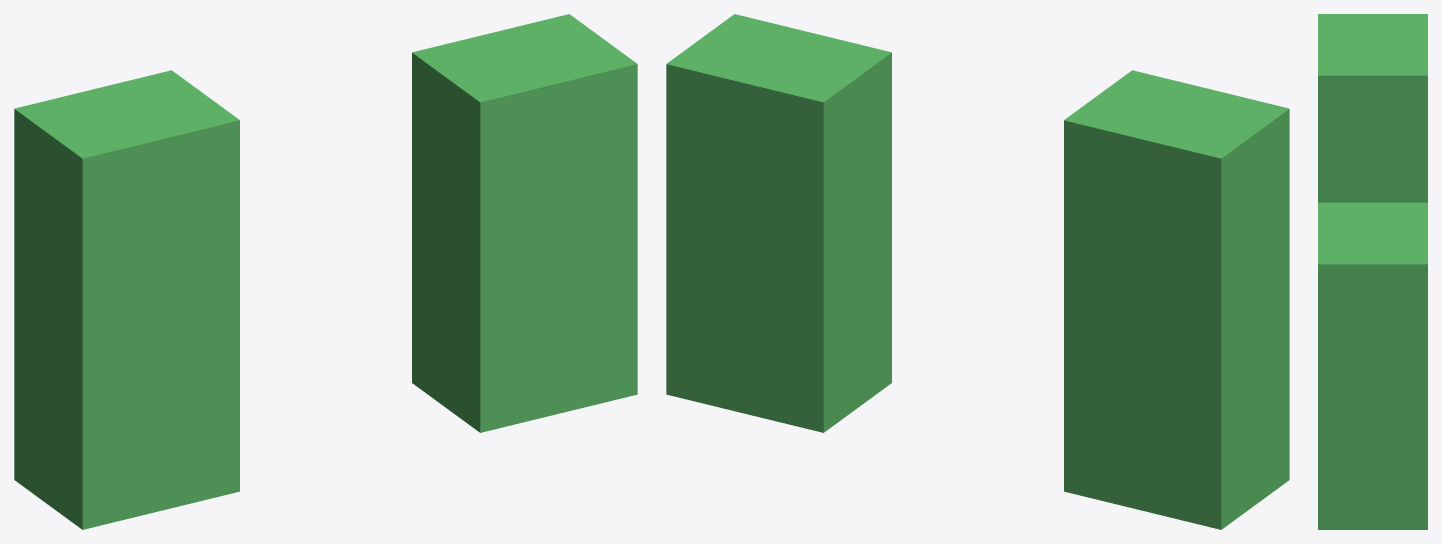
Rendered from fortress_breach_ramp_occluder.glb.
The picture shows the model from 3 angles, left to right: view 1: azimuth 30°, elevation 25°; view 2: azimuth 150°, elevation 25°; view 3: azimuth 270°, elevation 25°; orthographic projection. The views are drawn at different scales.
Visible parts, largest first — view 1: fortress_breach_ramp-occ-left, fortress_breach_ramp-occ-right; view 2: fortress_breach_ramp-occ-left, fortress_breach_ramp-occ-right; view 3: fortress_breach_ramp-occ-right, fortress_breach_ramp-occ-left.
Boxes of the visible parts, x1,y1,x2,y2 form: fortress_breach_ramp-occ-left: (14,70,239,529); fortress_breach_ramp-occ-right: (412,14,637,432); fortress_breach_ramp-occ-left: (1064,70,1289,529); fortress_breach_ramp-occ-right: (666,14,891,432); fortress_breach_ramp-occ-right: (1318,202,1427,529); fortress_breach_ramp-occ-left: (1318,14,1427,202).
Bounding box in the file's own units: 7.12 × 4.55 × 1.52.
